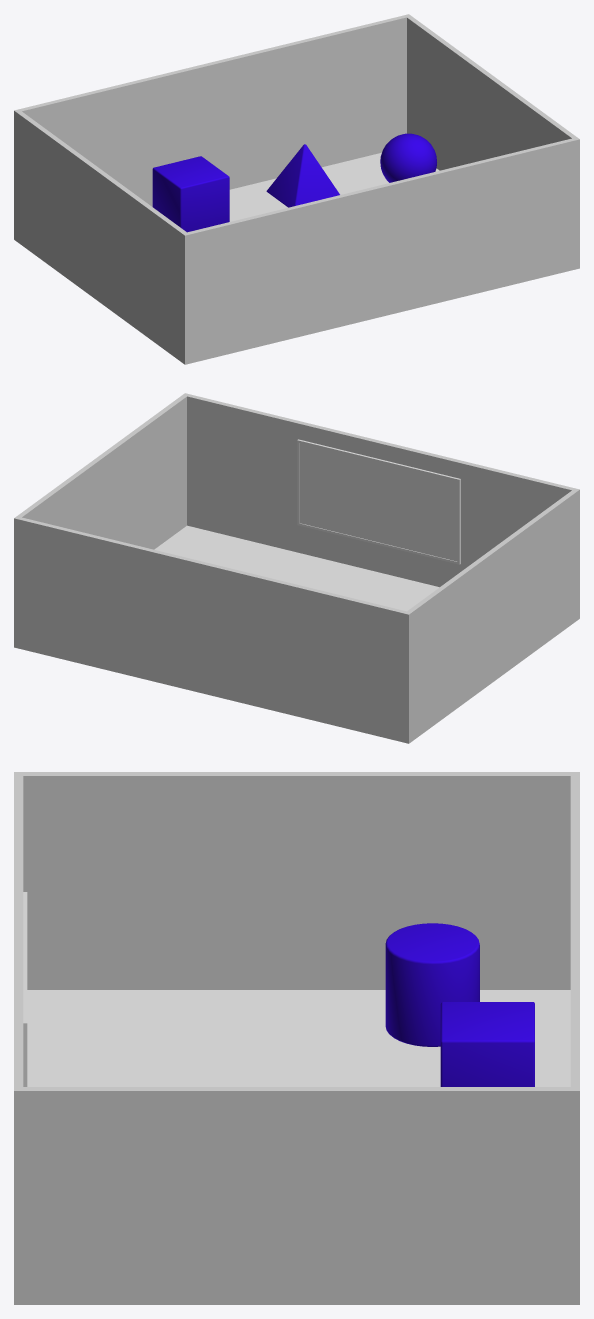
The model's file is Figures.gltf.
The picture shows the model from 3 angles, top to bottom: view 1: azimuth 30°, elevation 25°; view 2: azimuth 150°, elevation 25°; view 3: azimuth 270°, elevation 25°; orthographic projection. The views are drawn at different scales.
Visible parts, largest first — view 1: Walls, Cube, Ground, Pyramid, Sphere; view 2: Walls, Board, Ground; view 3: Walls, Ground, Cylinder, Cube, Board.
Part boxes in pixels (x1,y1,x2,y2): Walls: (14,14,579,364); Cube: (152,156,229,232); Ground: (229,152,439,221); Pyramid: (266,144,339,207); Sphere: (380,133,436,182); Walls: (14,393,579,743); Board: (297,439,460,564); Ground: (154,525,439,611); Walls: (14,772,579,1304); Ground: (27,990,570,1086); Cylinder: (385,923,479,1046); Cube: (440,1002,534,1086); Board: (23,892,27,1086).
Size of the model in its own units: 8 by 2.5 by 6.
